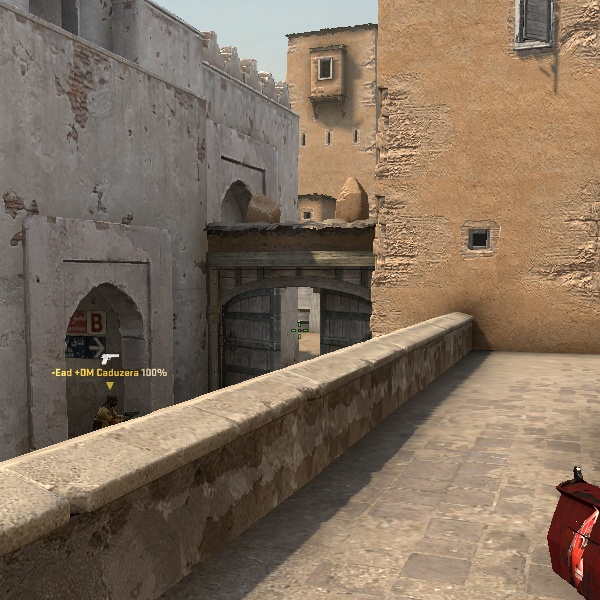t_body: (89, 392, 135, 429)
